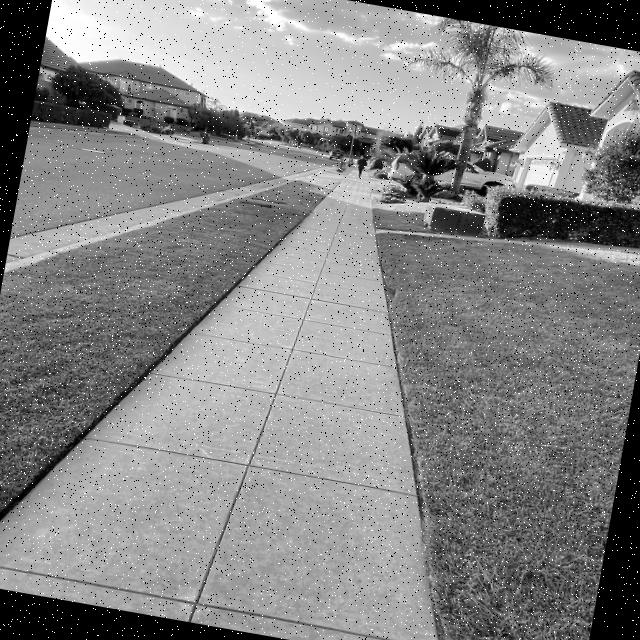curb: (2, 193, 88, 290), (57, 196, 158, 264), (110, 194, 215, 246), (182, 191, 272, 230), (218, 166, 288, 210)
road: (19, 143, 244, 222), (34, 124, 255, 190), (11, 173, 118, 250), (209, 140, 327, 186)
walkway: (28, 485, 441, 640), (70, 418, 418, 578), (137, 364, 416, 501), (195, 310, 395, 426), (240, 267, 390, 349), (276, 234, 385, 304), (310, 193, 378, 253)
walkway-edge: (382, 489, 509, 640), (364, 420, 478, 582), (362, 373, 476, 524), (150, 248, 240, 358), (63, 372, 140, 469), (360, 286, 428, 393), (116, 320, 180, 423), (0, 441, 42, 591)
